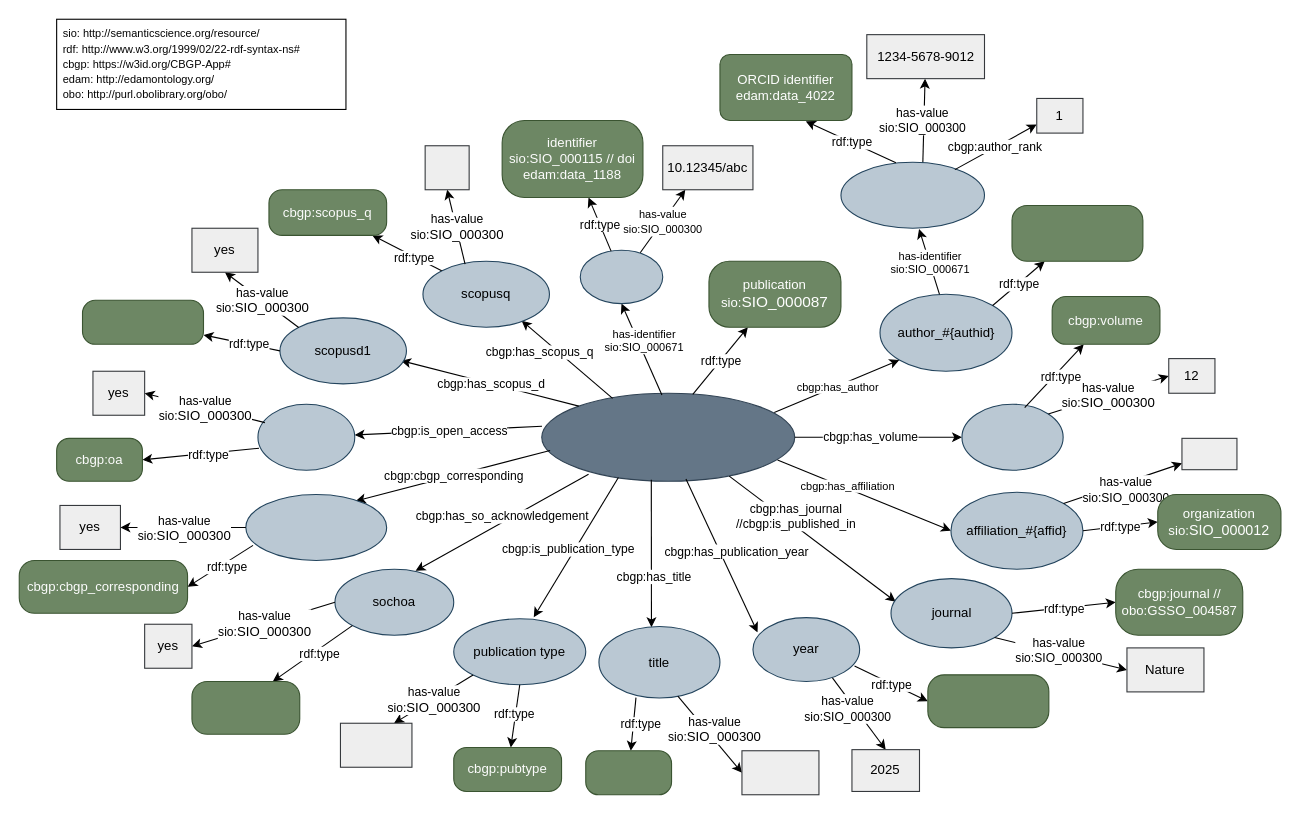
The diagram is 1300 pixels wide and 814 high, and some of its shapes have lost their labels. The shapes that lost their labels are listed below. From the top down, each one's centre as x and y in pixels, then its label:
At (446,167): "Q1".
At (912,194): "author_#{authid}_id".
At (1077,232): "Author ncit:NCIT_C42781".
At (621,276): "id".
At (142,321): "cbgp:scopusd1".
At (306,436): "oa".
At (668,436): "https://dx.doi.org/10.12345/abc".
At (1012,436): "volume".
At (1209,453): "123abc".
At (316,526): "cbgp corresponding".
At (245,707): "cbgp:sochoa".
At (988,701): "date of issue sio:SIO_001314".
At (375,744): "article".
At (628,772): "cbgp:title".
At (780,772): "abcdefg".
